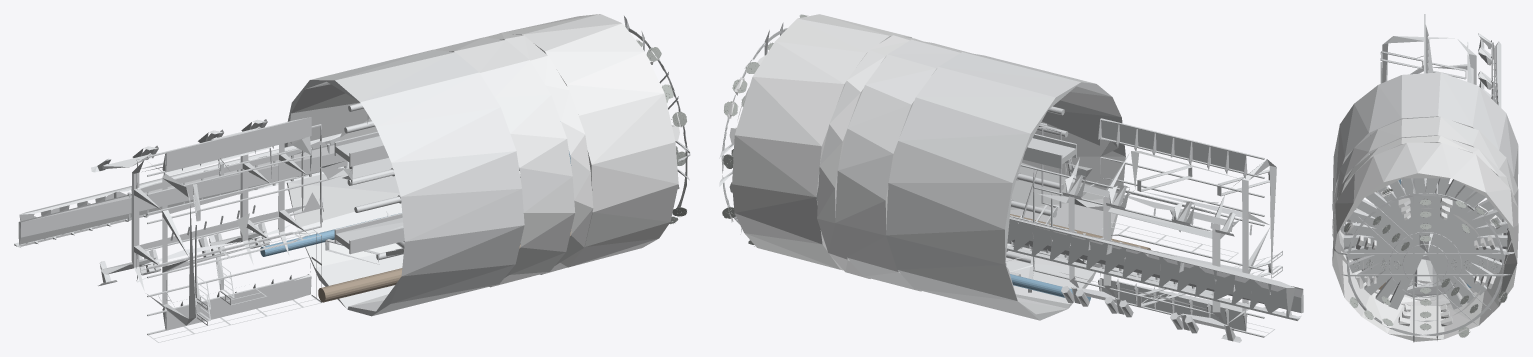
The model's file is slurry.glb.
3 views of the same model, side by side, from view 1: azimuth 30°, elevation 25°; view 2: azimuth 150°, elevation 25°; view 3: azimuth 270°, elevation 25° (orthographic). The views are drawn at different scales.
Parts seen in each view (by area): view 1: ShieldTail, MachineStructure, ShieldSkin, ShieldMiddle, ShieldFrontCollar, Railings, TypeKit/Slurry/ReturnLine, Cutterhead, TypeKit/Slurry/FeedLine, Stairs, ServiceTanks; view 2: ShieldTail, MachineStructure, ShieldSkin, ShieldMiddle, ShieldFrontCollar, Stairs, ServiceTanks, Cutterhead, Railings, TypeKit/Slurry/FeedLine; view 3: TypeKit/Slurry/SubmergedWall, ShieldSkin, ShieldTail, MachineStructure, ShieldMiddle, ShieldShell, Cutterhead, ShieldFrontCollar, Stairs.
Part boxes in pixels (x1,y1,x2,y2): ShieldTail: (284,49,524,316); MachineStructure: (14,16,690,335); ShieldSkin: (500,14,678,267); ShieldMiddle: (434,37,575,287); ShieldFrontCollar: (485,33,593,274); Railings: (148,228,321,342); TypeKit/Slurry/ReturnLine: (318,229,571,302); Cutterhead: (636,40,687,224); TypeKit/Slurry/FeedLine: (260,213,399,256); Stairs: (193,138,223,313); ServiceTanks: (139,223,269,274); ShieldTail: (886,52,1125,320); MachineStructure: (719,22,1303,342); ShieldSkin: (732,14,911,270); ShieldMiddle: (835,39,970,291); ShieldFrontCollar: (817,35,922,278); Stairs: (1137,165,1272,306); ServiceTanks: (1061,286,1198,333); Cutterhead: (722,14,807,244); Railings: (1101,222,1282,336); TypeKit/Slurry/FeedLine: (1010,274,1090,301); TypeKit/Slurry/SubmergedWall: (1343,178,1507,309); ShieldSkin: (1332,142,1518,341); ShieldTail: (1332,72,1518,283); MachineStructure: (1333,14,1514,342); ShieldMiddle: (1332,116,1518,300); ShieldShell: (1345,188,1507,333); Cutterhead: (1344,187,1507,337); ShieldFrontCollar: (1332,135,1518,306); Stairs: (1380,51,1466,79).
Bounding box in the file's own units: 28.78 × 10.5 × 10.49.
